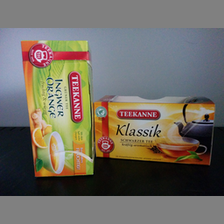tea: (21, 39, 93, 176), (94, 96, 215, 165)
